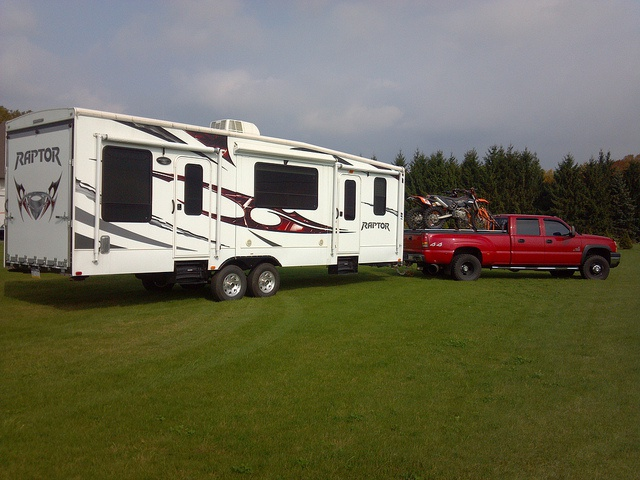non-vehicle: (423, 186, 491, 229), (404, 190, 460, 229)
